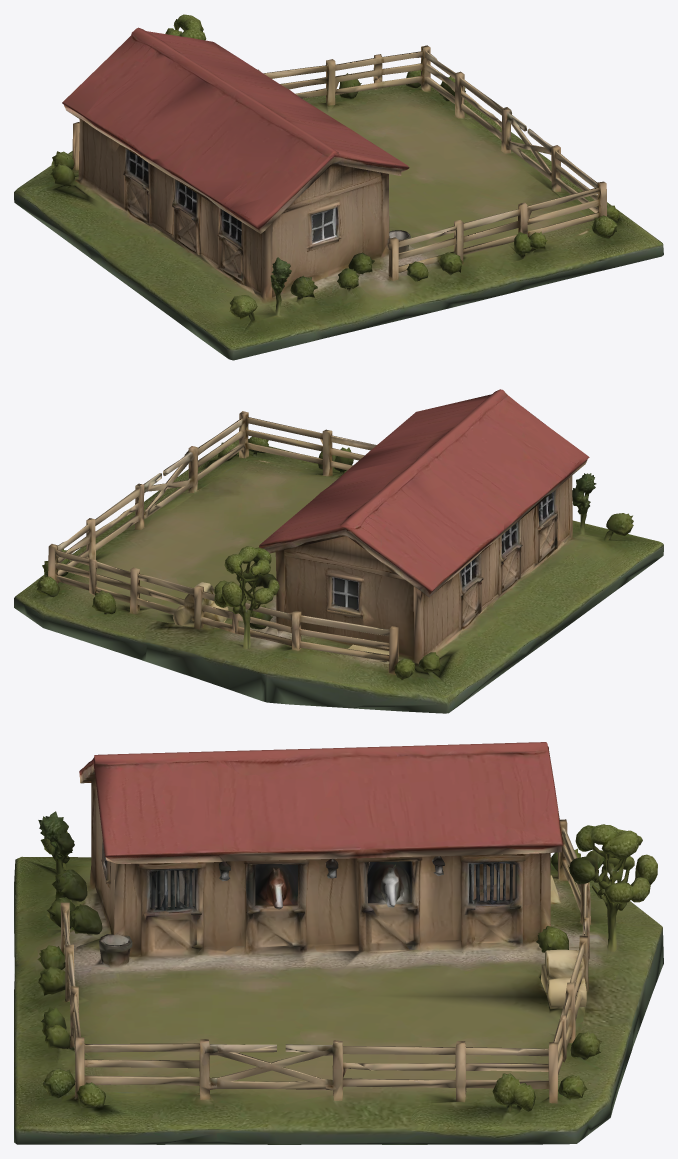
Rendered from home-stable-hf.glb.
The picture shows the model from 3 angles, top to bottom: view 1: azimuth 30°, elevation 25°; view 2: azimuth 150°, elevation 25°; view 3: azimuth 270°, elevation 25°; orthographic projection. The views are drawn at different scales.
Parts seen in each view (by area): view 1: tripo_node_cb026137-b405-4d47-963c-05071f280f8a; view 2: tripo_node_cb026137-b405-4d47-963c-05071f280f8a; view 3: tripo_node_cb026137-b405-4d47-963c-05071f280f8a.
Boxes of the visible parts, left/top/right/bottom form: tripo_node_cb026137-b405-4d47-963c-05071f280f8a: left=14, top=14, right=663, bottom=360; tripo_node_cb026137-b405-4d47-963c-05071f280f8a: left=14, top=389, right=663, bottom=713; tripo_node_cb026137-b405-4d47-963c-05071f280f8a: left=14, top=742, right=663, bottom=1144.
Bounding box in the file's own units: 0.9959 × 0.34 × 0.9999.
Materials: 1 (1 with a texture image).
